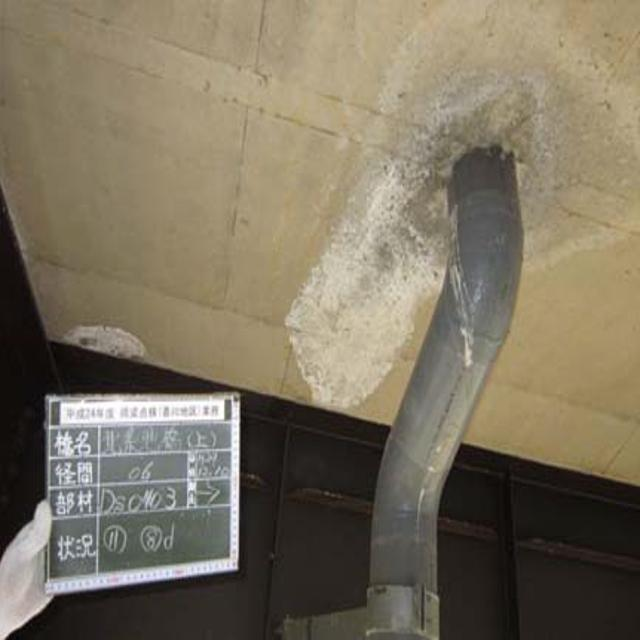freelime: (272, 171, 417, 430)
